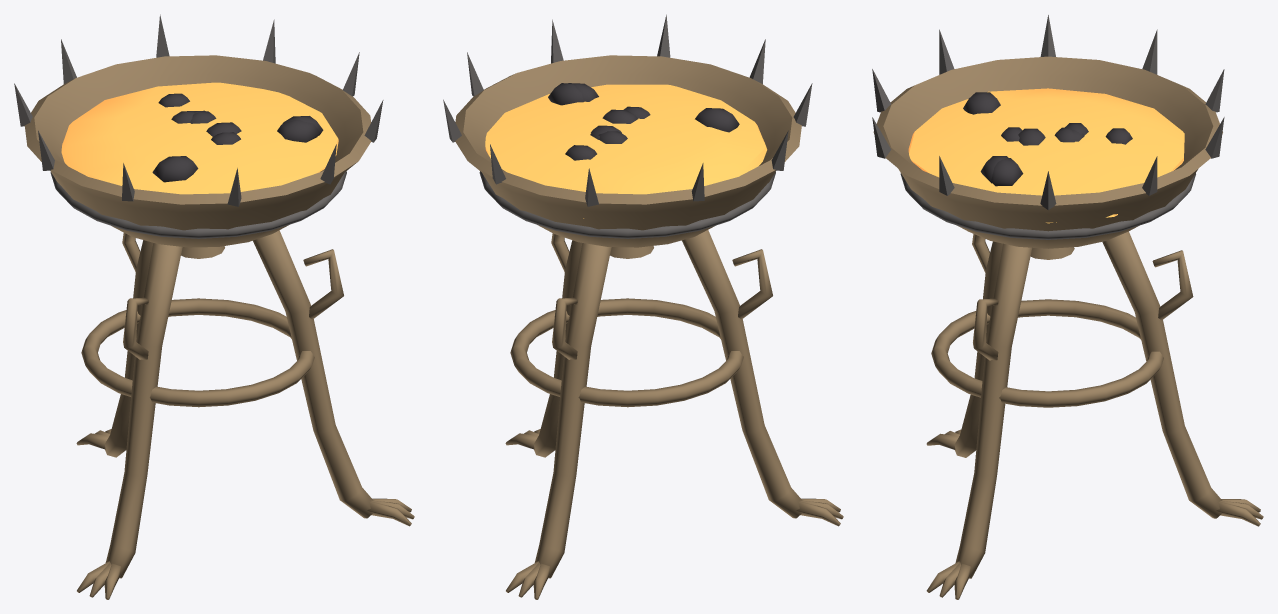
File: brazier.glb
The picture shows the model from 3 angles, left to right: view 1: azimuth 30°, elevation 25°; view 2: azimuth 150°, elevation 25°; view 3: azimuth 270°, elevation 25°; orthographic projection.
Visible parts, largest first — view 1: brazier; view 2: brazier; view 3: brazier.
Boxes of the visible parts, x1,y1,x2,y2 form: brazier: (14,14,414,599); brazier: (443,14,843,599); brazier: (872,15,1263,599).
Size of the model in its own units: 1.17 by 1.43 by 1.19.
